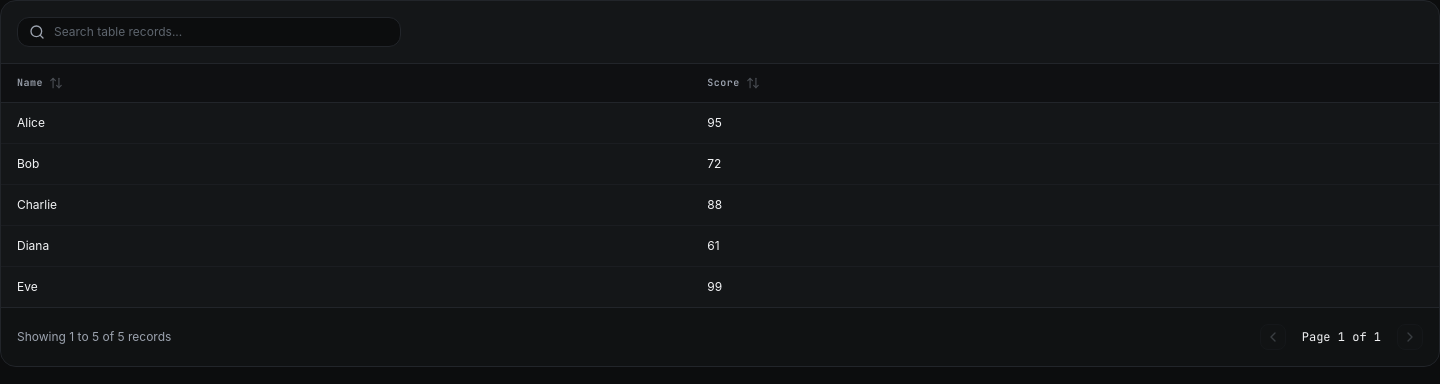
DataTable › filters rows on search input
The width and height of the screenshot is (1440, 384).
Type "alice" into the field with placeholder "Search table records...".
click(209, 32); type("alice")  # box 17,17 -> 401,47
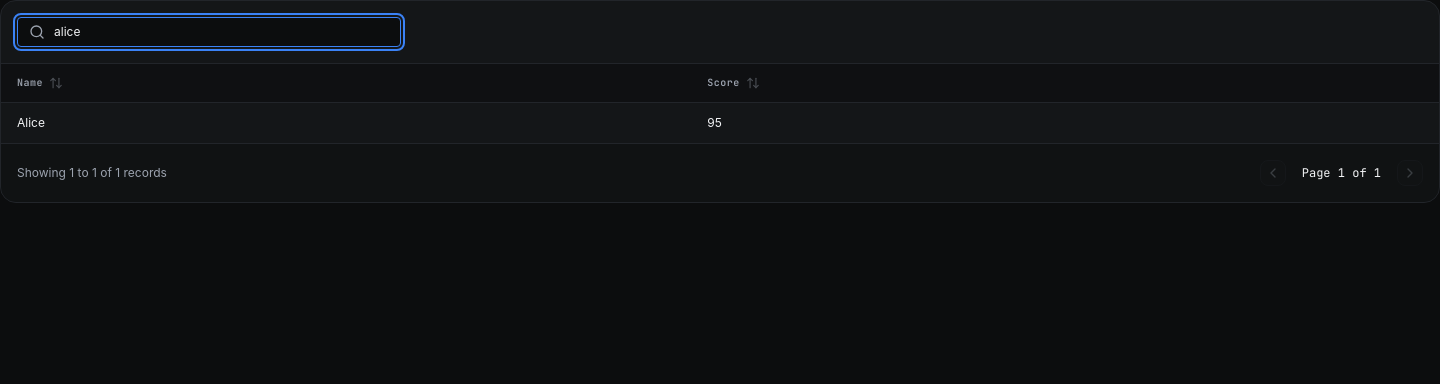
Expected: the text "Alice" is shown, 1,102 -> 691,143
Expected: the text "Bob" is gone
